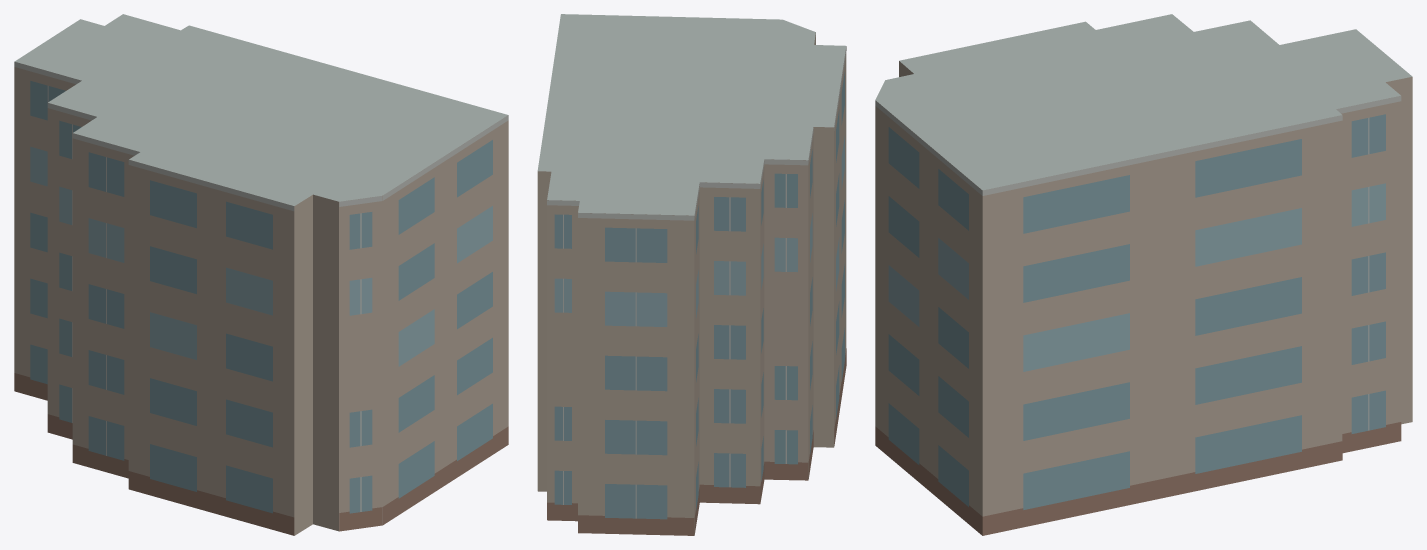
File: survey-upis-32945995.glb
The picture shows the model from 3 angles, left to right: view 1: azimuth 30°, elevation 25°; view 2: azimuth 150°, elevation 25°; view 3: azimuth 270°, elevation 25°; orthographic projection. The views are drawn at different scales.
Visible parts, largest first — view 1: survey-upis-32945995.tmp; view 2: survey-upis-32945995.tmp; view 3: survey-upis-32945995.tmp.
Boxes of the visible parts, left/top/right/bottom form: survey-upis-32945995.tmp: left=14, top=14, right=508, bottom=535; survey-upis-32945995.tmp: left=537, top=14, right=846, bottom=535; survey-upis-32945995.tmp: left=875, top=14, right=1412, bottom=535.
Bounding box in the file's own units: 16.67 × 15.2 × 21.44.
